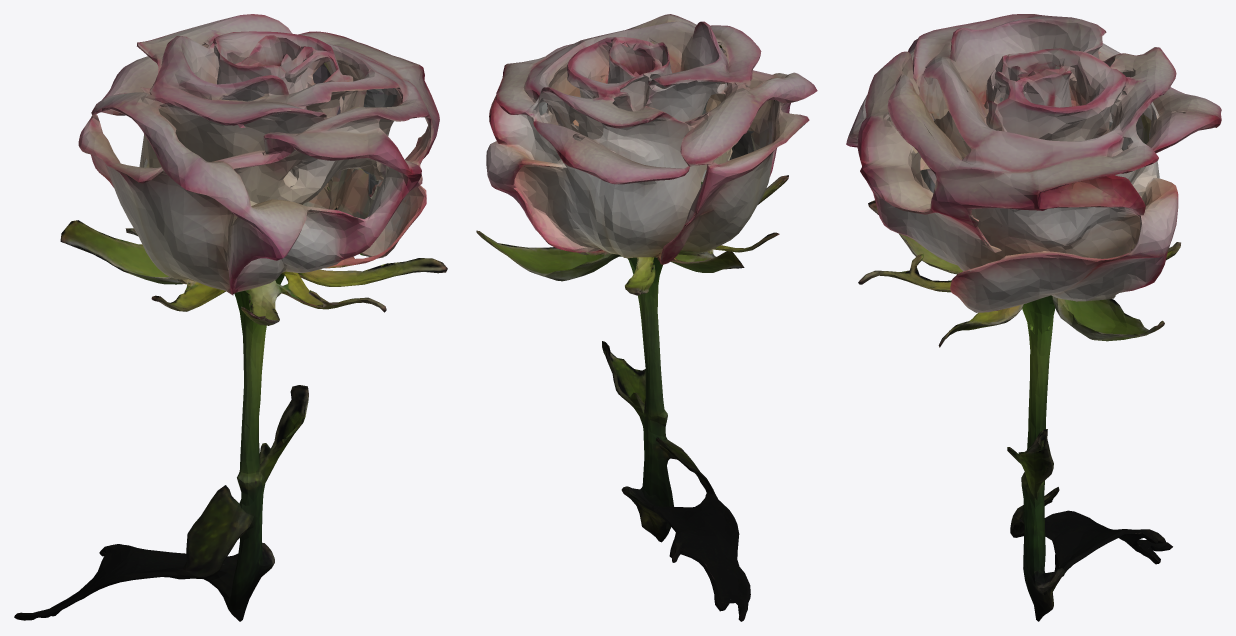
3 renders of one model, left to right at view 1: azimuth 30°, elevation 25°; view 2: azimuth 150°, elevation 25°; view 3: azimuth 270°, elevation 25°, orthographic. The views are drawn at different scales.
Parts seen in each view (by area): view 1: world; view 2: world; view 3: world.
Part boxes in pixels (x1,y1,x2,y2): world: (14,14,447,621); world: (476,14,817,621); world: (846,14,1221,621).
Bounding box in the file's own units: 0.6142 × 0.9941 × 0.571.
1 material, 1 textured.
